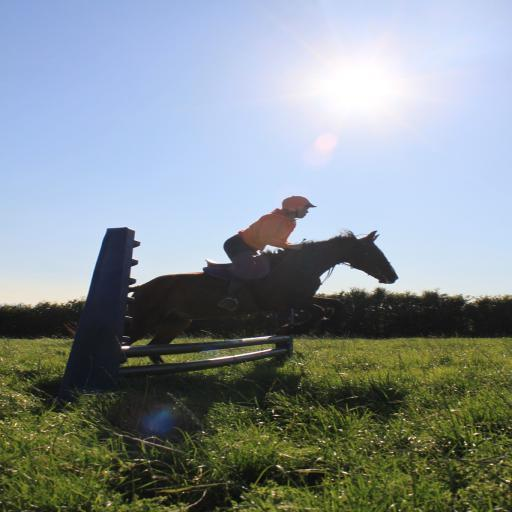horse: (120, 228, 400, 369)
